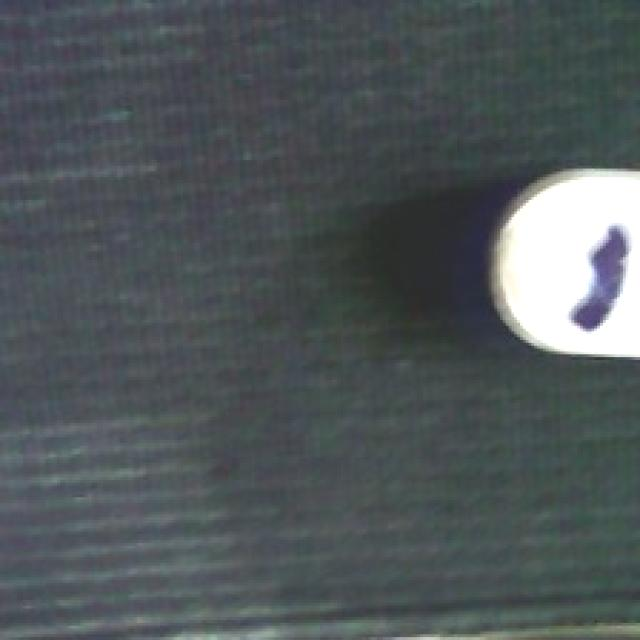defected: (483, 159, 640, 367)
